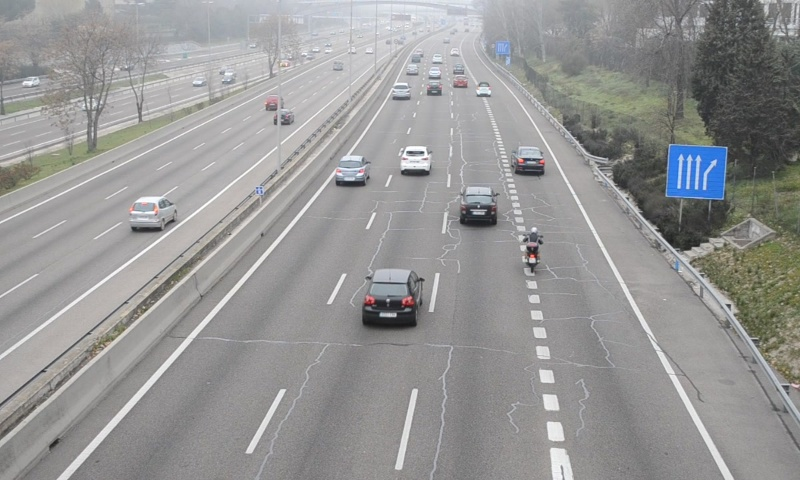car: (363, 268, 422, 322), (459, 184, 496, 222), (335, 156, 369, 184), (513, 146, 546, 174), (400, 146, 433, 174), (391, 82, 412, 101), (427, 78, 443, 97), (477, 80, 492, 98)
motorcycle: (521, 224, 546, 273)
